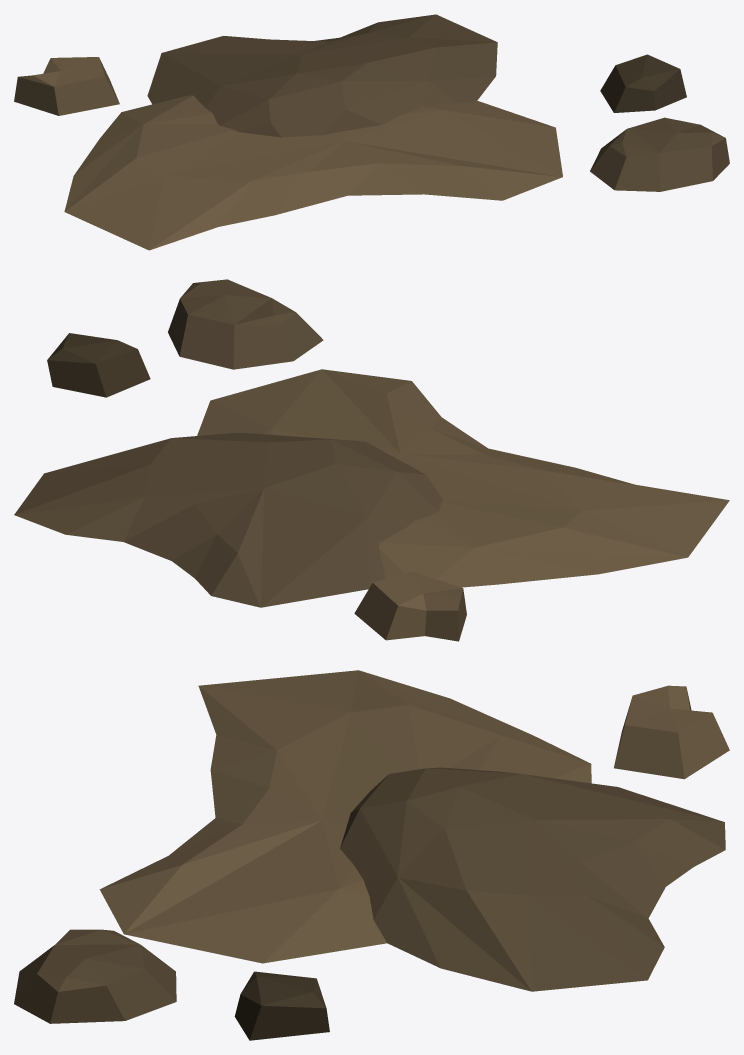
The model's file is EA03_Environment_Mud_04b.glb.
3 renders of one model, top to bottom at view 1: azimuth 30°, elevation 25°; view 2: azimuth 150°, elevation 25°; view 3: azimuth 270°, elevation 25°, orthographic. The views are drawn at different scales.
Visible parts, largest first — view 1: EA03_Environment_Mud_04b; view 2: EA03_Environment_Mud_04b; view 3: EA03_Environment_Mud_04b.
Boxes of the visible parts, x1,y1,x2,y2 form: EA03_Environment_Mud_04b: [14, 14, 729, 250]; EA03_Environment_Mud_04b: [14, 279, 729, 641]; EA03_Environment_Mud_04b: [14, 670, 729, 1040].
Size of the model in its own units: 5.48 by 0.4047 by 4.42.
1 material, 1 textured.
